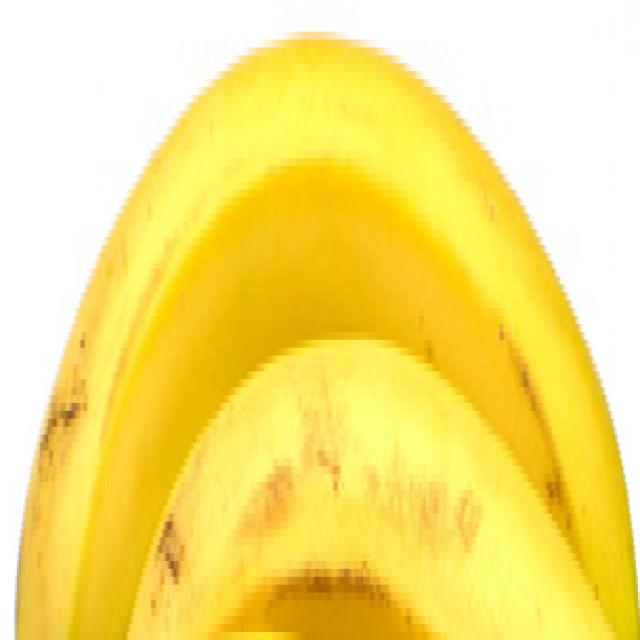Pineapple: (0, 8, 640, 640)
